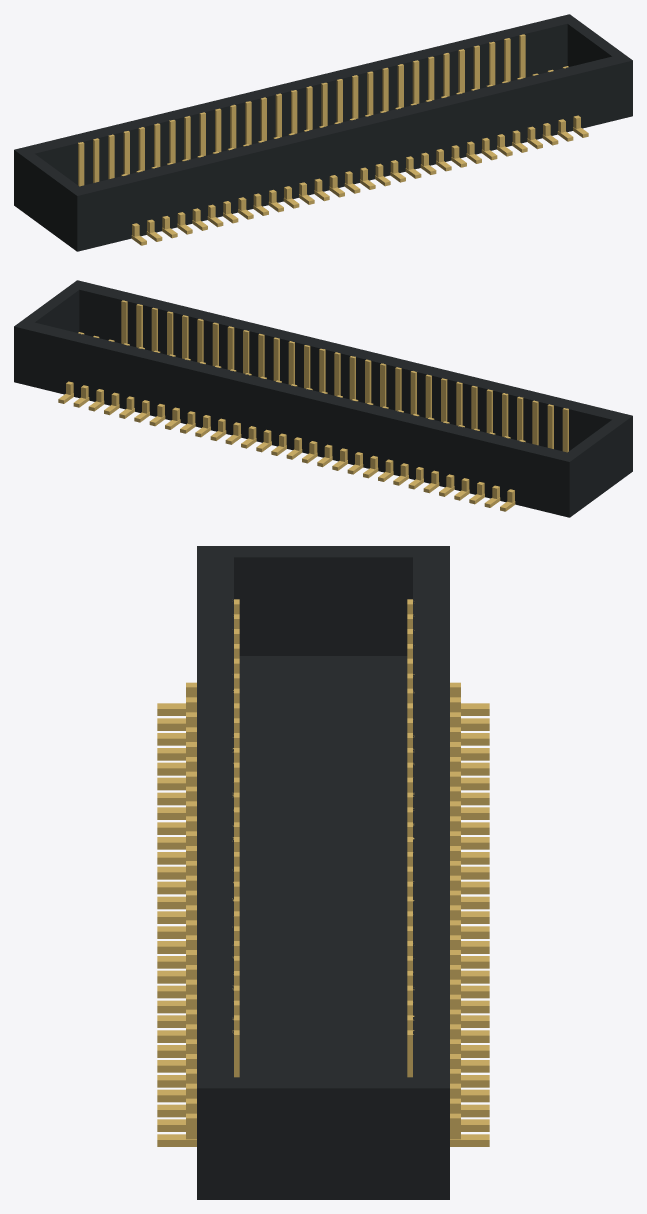
File: df40-60ds-preview.glb
3 renders of one model, top to bottom at view 1: azimuth 30°, elevation 25°; view 2: azimuth 150°, elevation 25°; view 3: azimuth 270°, elevation 25°, orthographic. The views are drawn at different scales.
Parts seen in each view (by area): view 1: df40-60ds-preview; view 2: df40-60ds-preview; view 3: df40-60ds-preview.
Boxes of the visible parts, bbox=[...] form: df40-60ds-preview: bbox=[14, 14, 632, 251]; df40-60ds-preview: bbox=[14, 280, 632, 517]; df40-60ds-preview: bbox=[157, 546, 489, 1199].
Size of the model in its own units: 14.6 by 1.4 by 3.78.
